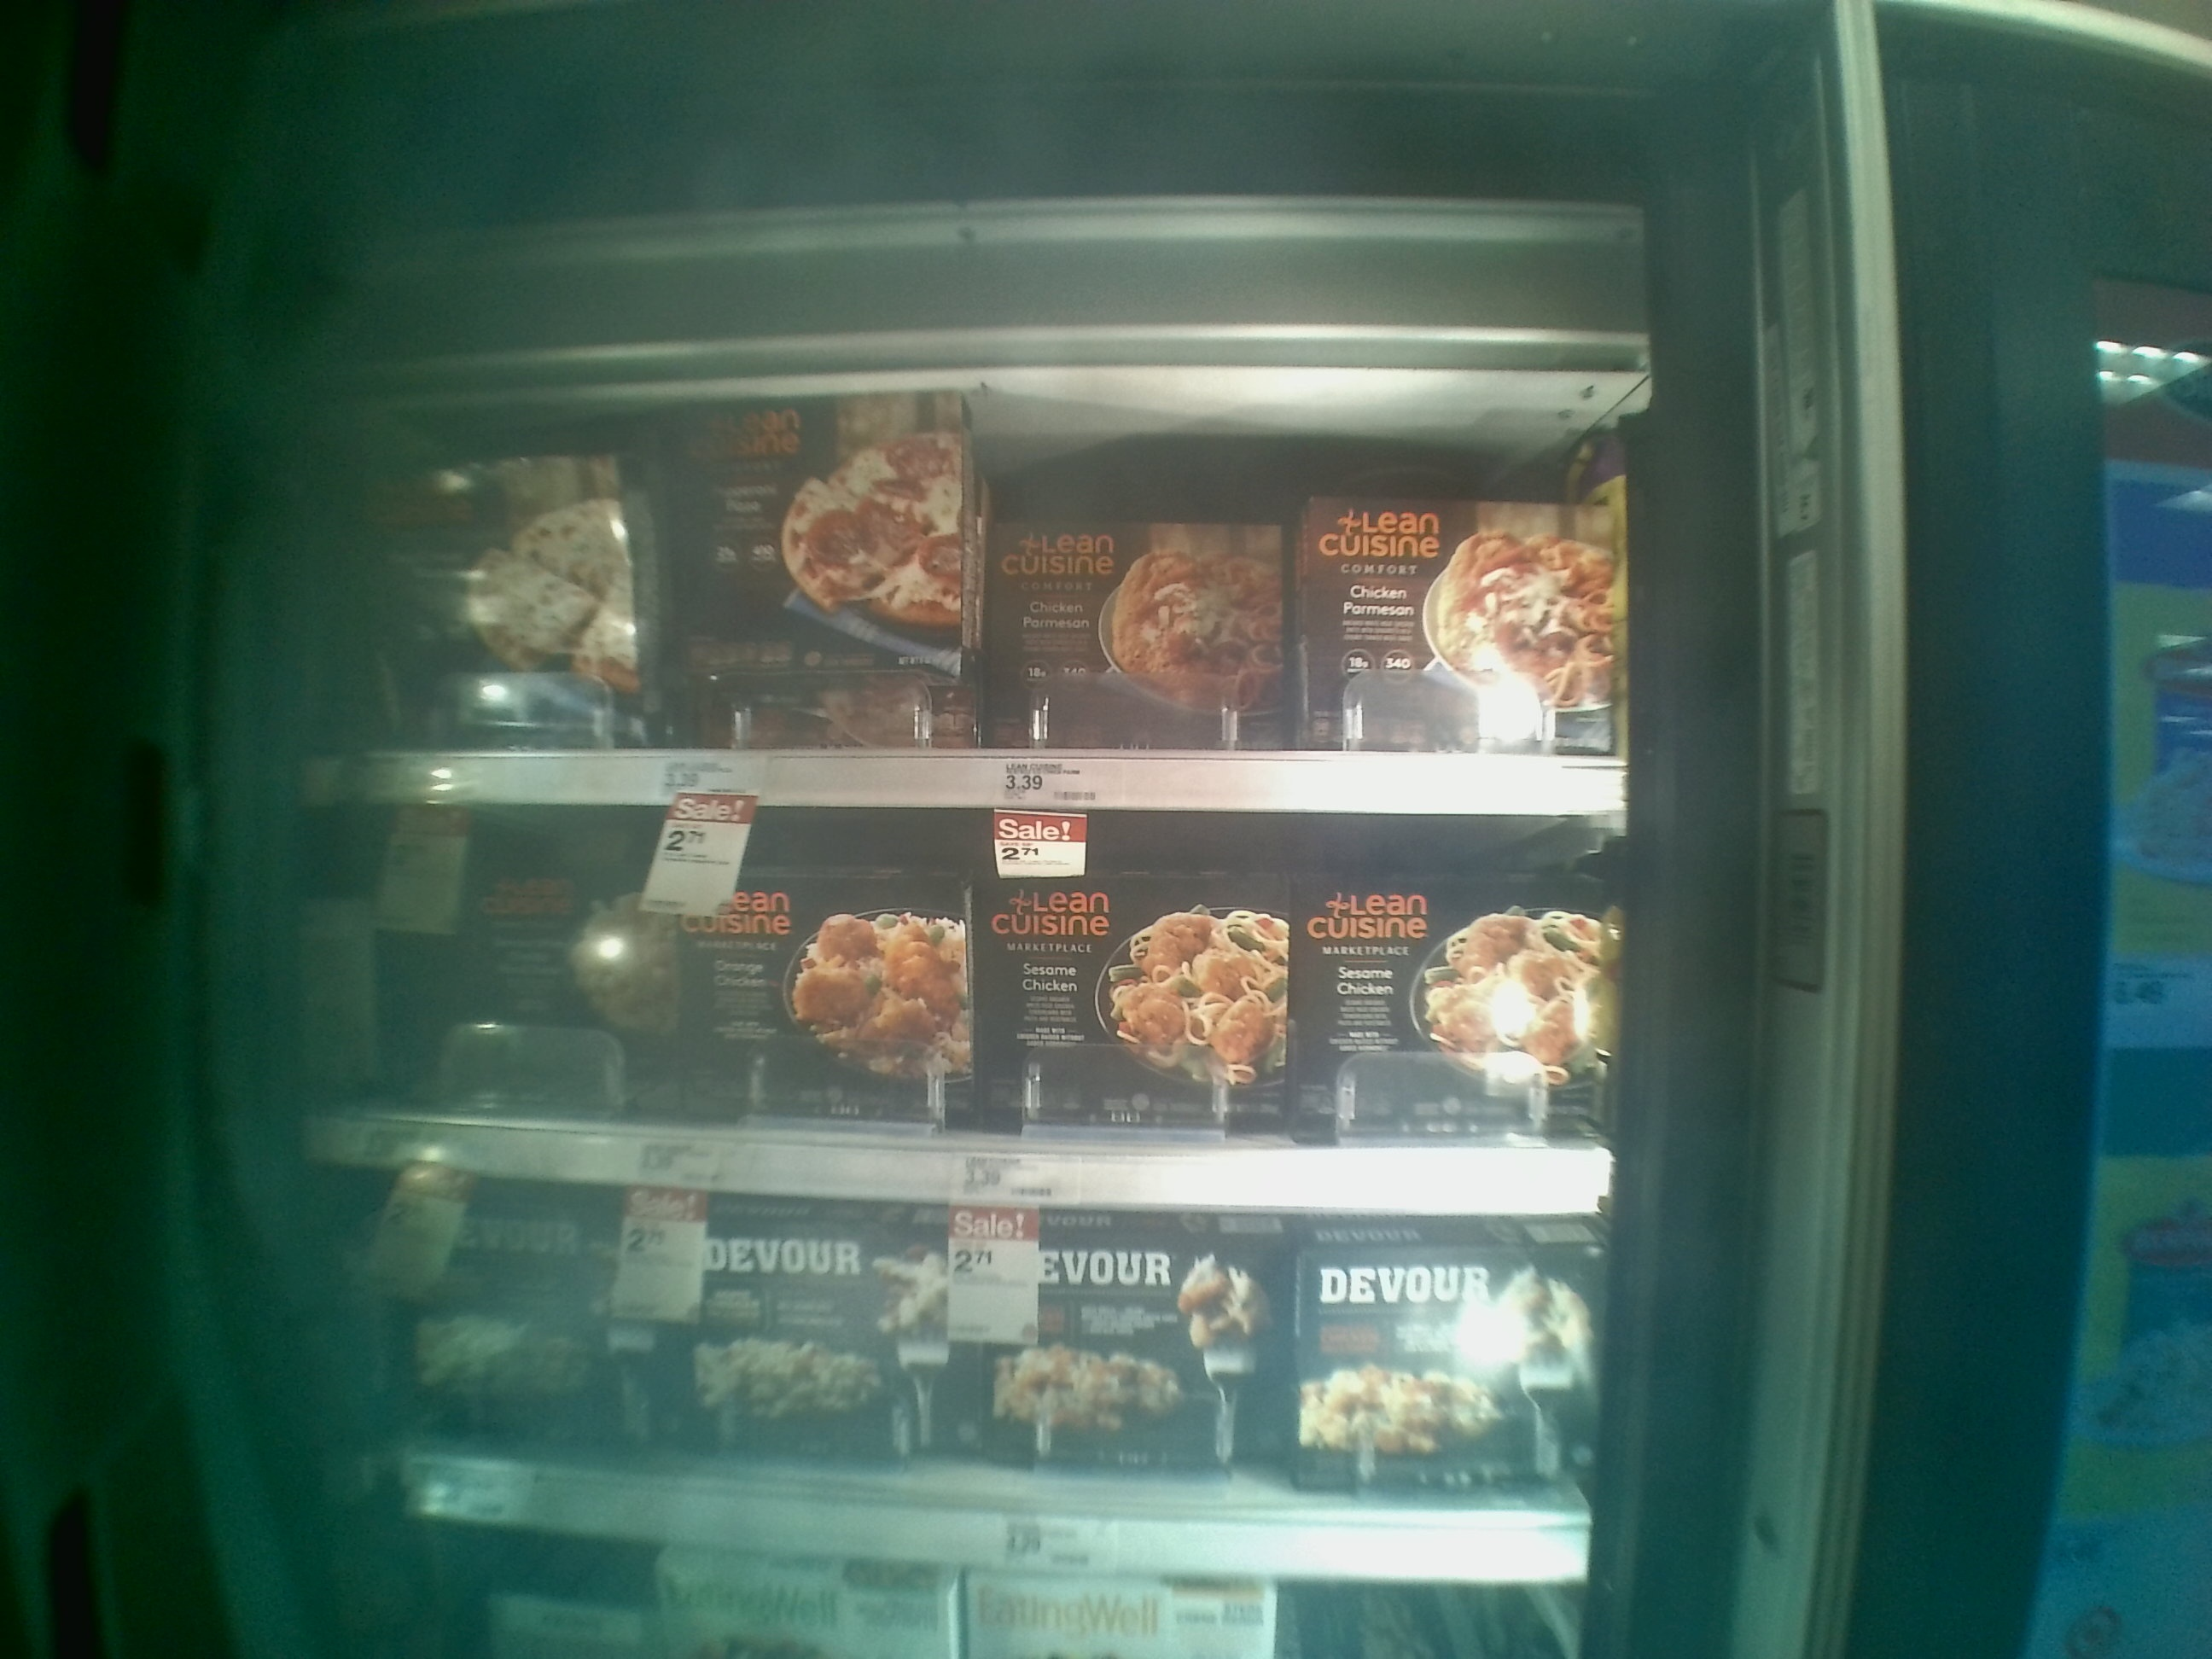shelf: (296, 382, 1623, 809), (314, 1159, 1601, 1588), (303, 802, 1606, 1211)
